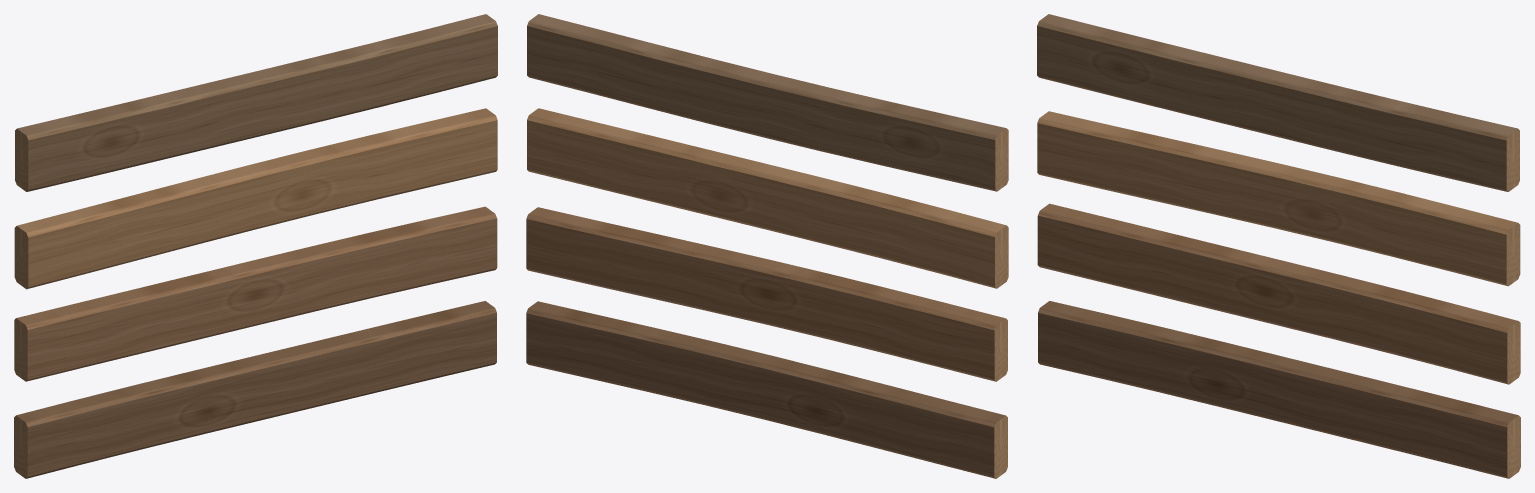
File: fence_slats_01.glb
3 renders of one model, left to right at view 1: azimuth 30°, elevation 25°; view 2: azimuth 150°, elevation 25°; view 3: azimuth 330°, elevation 25°, orthographic.
Parts seen in each view (by area): view 1: TileDecorationFenceSlats01; view 2: TileDecorationFenceSlats01; view 3: TileDecorationFenceSlats01.
Part boxes in pixels (x1,y1,x2,y2): TileDecorationFenceSlats01: (14, 14, 497, 478); TileDecorationFenceSlats01: (526, 14, 1008, 478); TileDecorationFenceSlats01: (1037, 14, 1520, 478).
Bounding box in the file's own units: 1 × 0.7 × 0.0534.
Materials: 1 (1 with a texture image).
